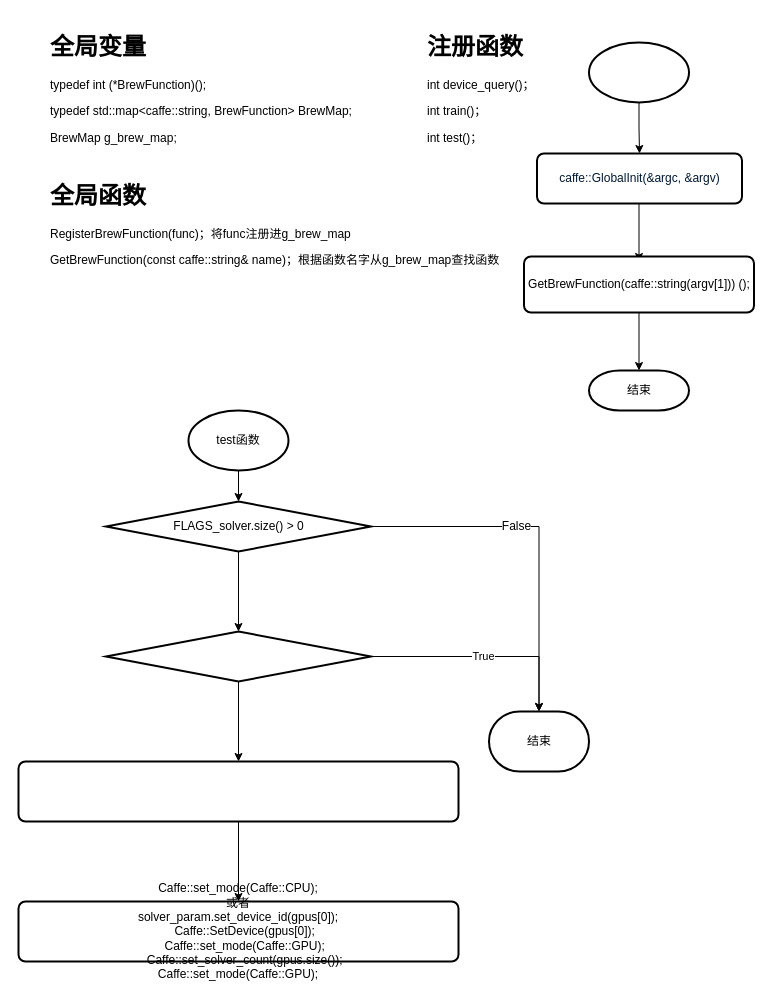
Image size: 772x999. Some labels were removed from this diagram. Each missing label, with the centre of its shape:
"caffe::ReadSolverParamsFromTextFileOrDie(FLAGS_solver, &solver_param)" belongs at pixel 238 791.
"FLAGS_snapshot和FLAGS_weights同时存在" belongs at pixel 238 656.
"main函数" belongs at pixel 639 72.
